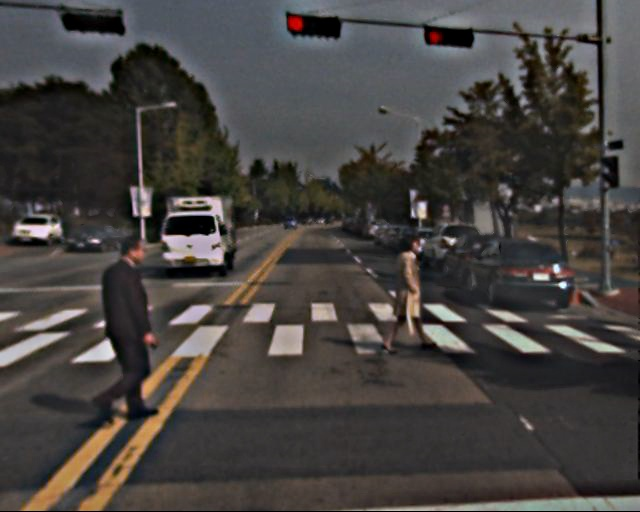person: (86, 235, 163, 422), (385, 236, 432, 351)
